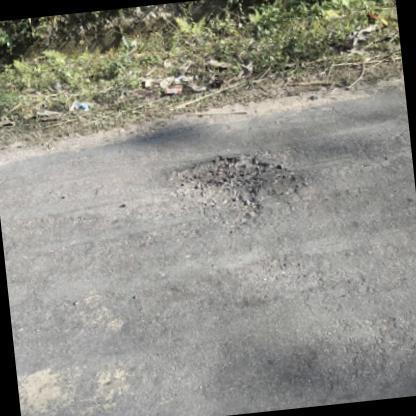pothole: (169, 153, 303, 210)
